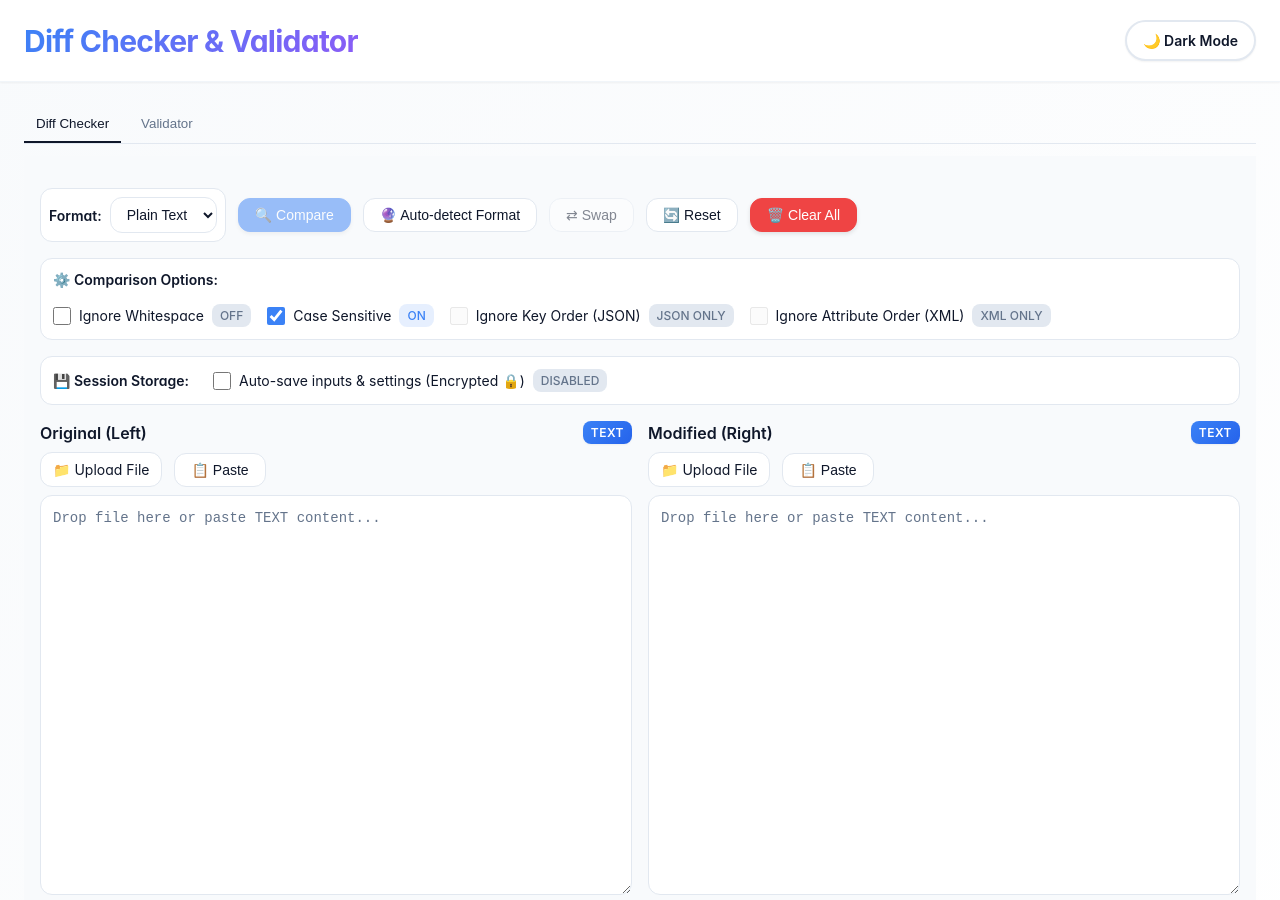
Test case: Home Page › Theme Management › should toggle back to light theme
What coordinates should you click on to do the following:
click the button "🌙 Dark Mode"
I would click on:
 (1191, 40)
Its box is 1125,20 -> 1256,61.
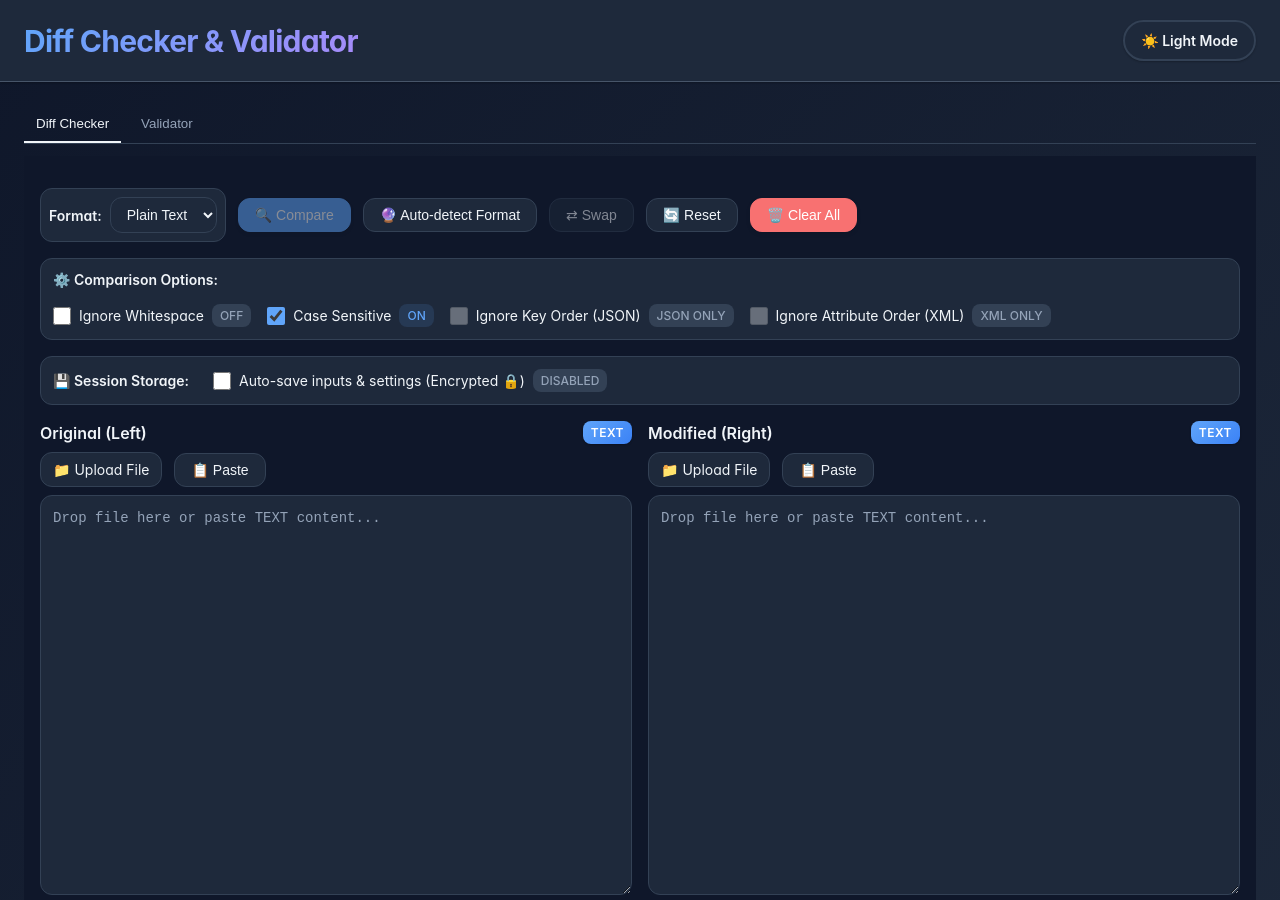
What coordinates should you click on to do the following:
click the button "☀️ Light Mode"
I would click on:
 (1190, 40)
Its box is 1123,20 -> 1256,61.
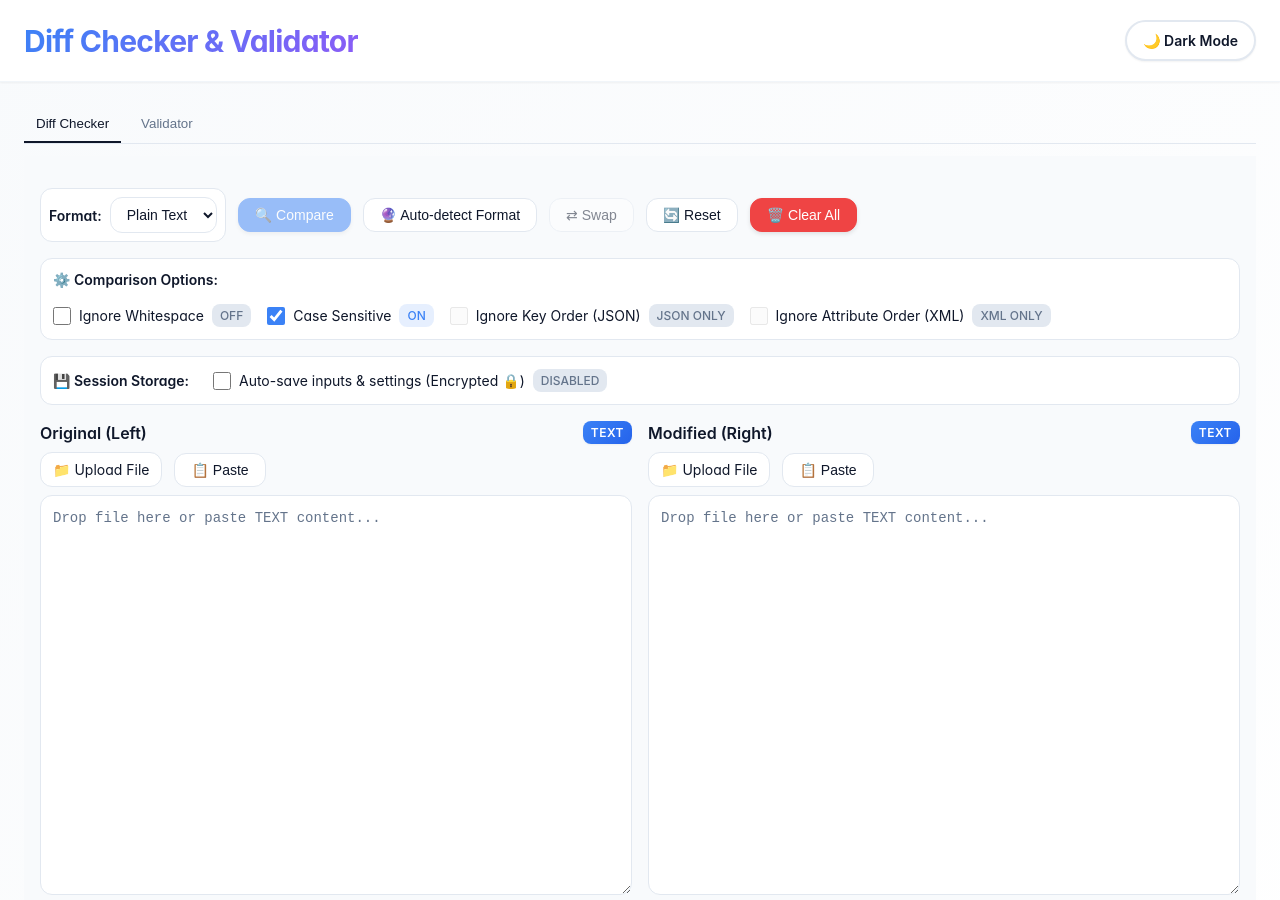
Expected: the button "🌙 Dark Mode" is shown, 1125,20 -> 1256,61
